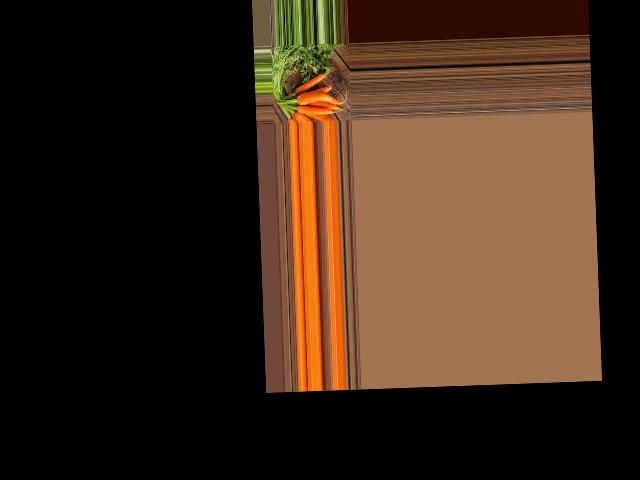carrot: (289, 107, 310, 123)
